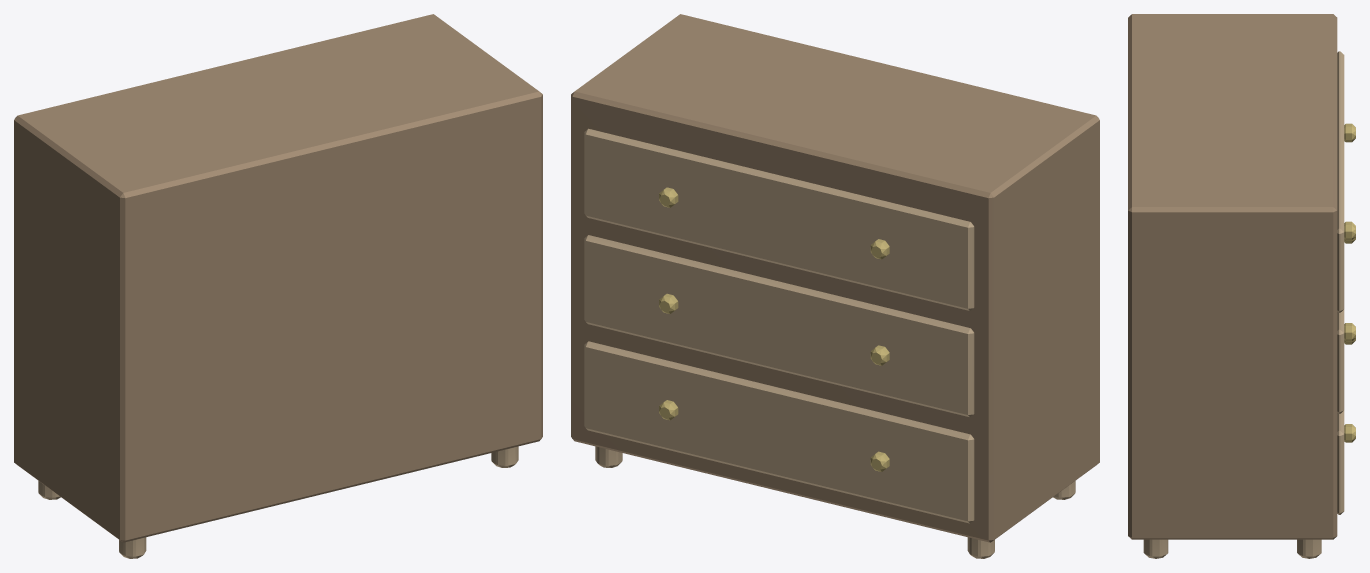
File: furn_dresser__walnut.glb
3 renders of one model, left to right at view 1: azimuth 30°, elevation 25°; view 2: azimuth 150°, elevation 25°; view 3: azimuth 270°, elevation 25°, orthographic. The views are drawn at different scales.
Size of the model in its own units: 1 by 0.85 by 0.49.
